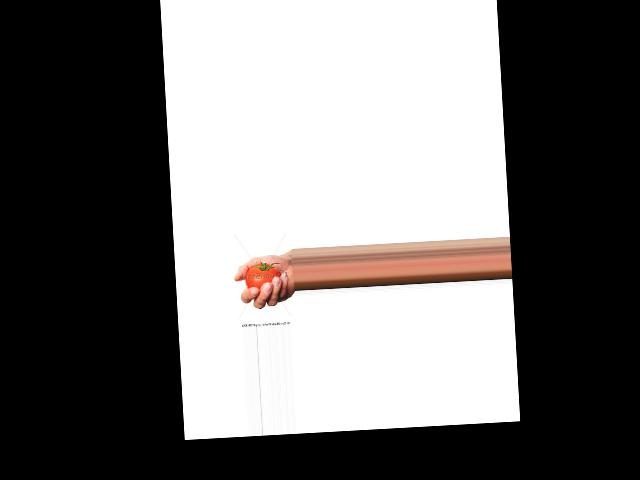tomato: (244, 262, 281, 289)
